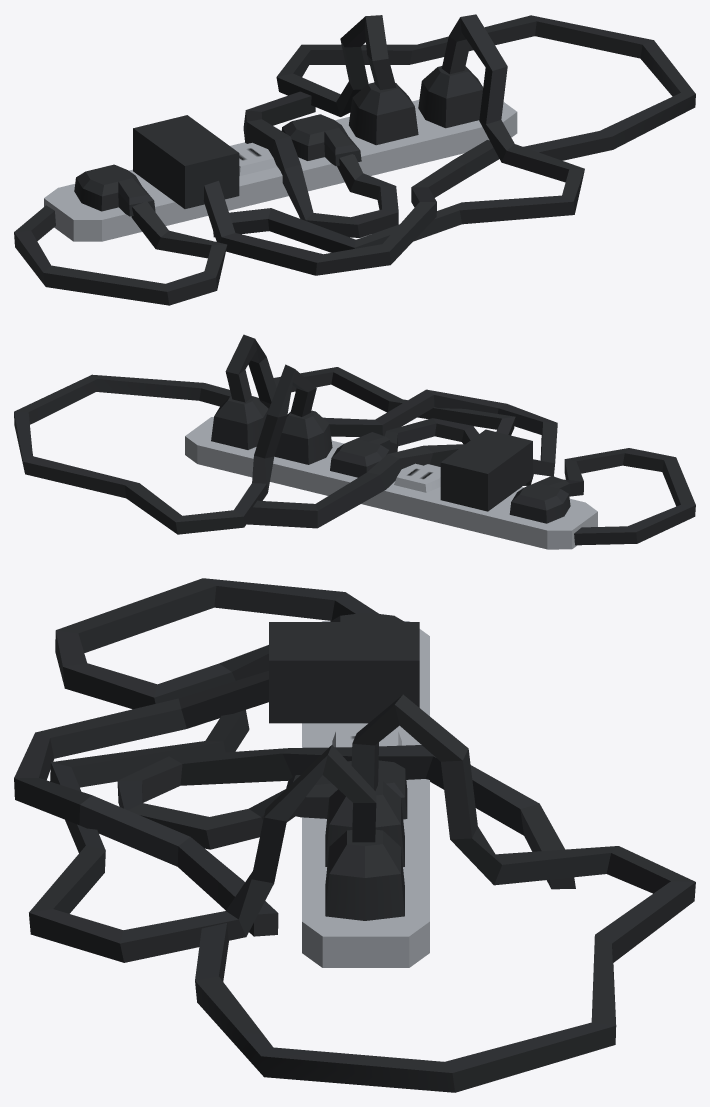
File: SM_Prop_Cord_Pile_01.glb
3 renders of one model, top to bottom at view 1: azimuth 30°, elevation 25°; view 2: azimuth 150°, elevation 25°; view 3: azimuth 270°, elevation 25°, orthographic. The views are drawn at different scales.
Parts seen in each view (by area): view 1: SM_Prop_Cord_Pile_01; view 2: SM_Prop_Cord_Pile_01; view 3: SM_Prop_Cord_Pile_01.
Part boxes in pixels (bbox=[...]): SM_Prop_Cord_Pile_01: bbox=[14, 14, 695, 305]; SM_Prop_Cord_Pile_01: bbox=[14, 334, 695, 549]; SM_Prop_Cord_Pile_01: bbox=[14, 578, 695, 1092].
Bounding box in the file's own units: 1 × 0.1842 × 0.5824.
1 material, 1 textured.
